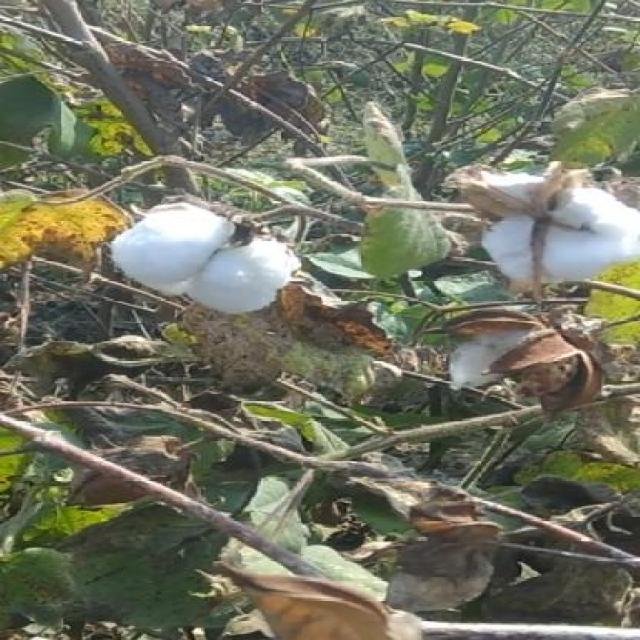cotton_ready: (74, 179, 318, 321), (438, 160, 639, 308)
